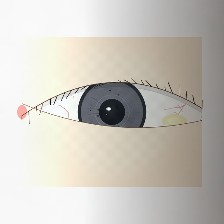pinguecula_lesion: (149, 101, 200, 141)
